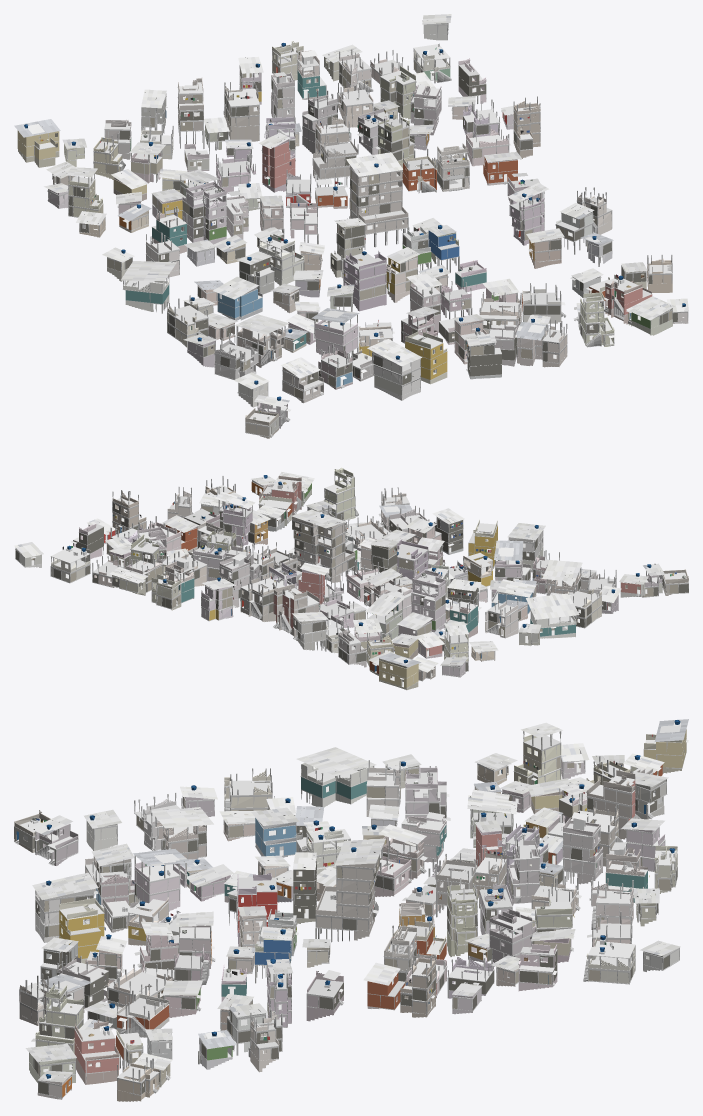
3 renders of one model, top to bottom at view 1: azimuth 30°, elevation 25°; view 2: azimuth 150°, elevation 25°; view 3: azimuth 270°, elevation 25°, orthographic. The views are drawn at different scales.
Parts seen in each view (by area): view 1: T_24_25; view 2: T_24_25; view 3: T_24_25.
Boxes of the visible parts, bbox=[...] form: T_24_25: bbox=[14, 14, 688, 438]; T_24_25: bbox=[14, 467, 688, 690]; T_24_25: bbox=[14, 719, 688, 1101].
Size of the model in its own units: 137 by 39.78 by 137.
